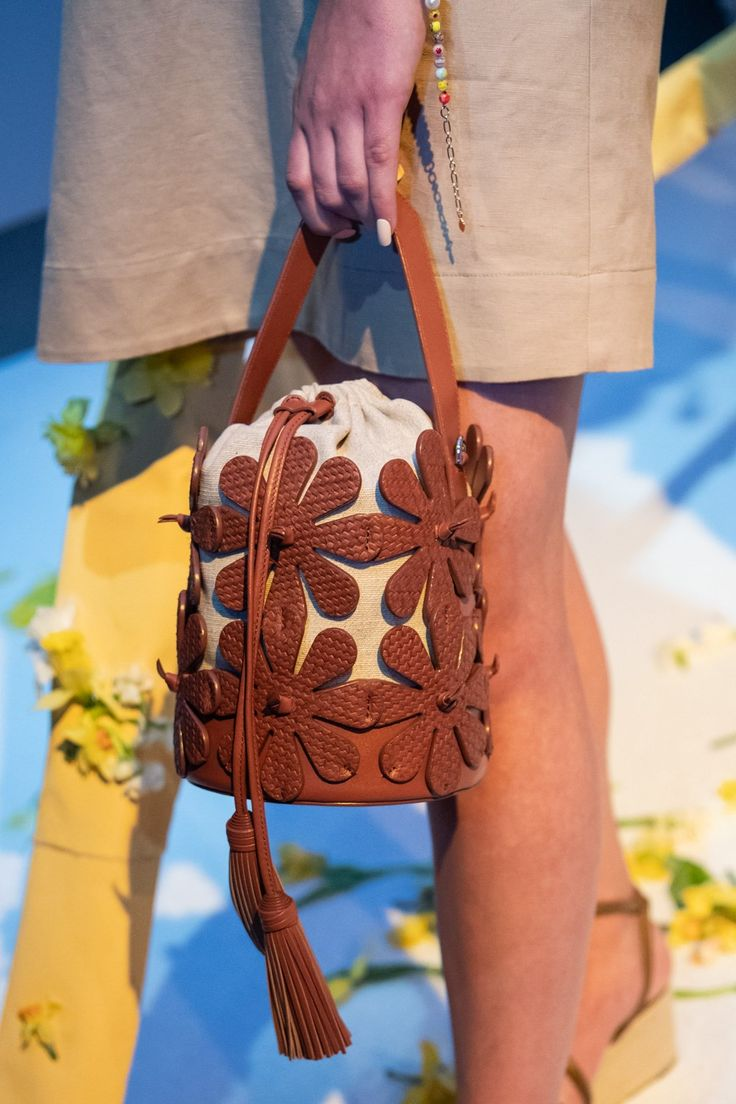cuero: (153, 172, 497, 1062)
